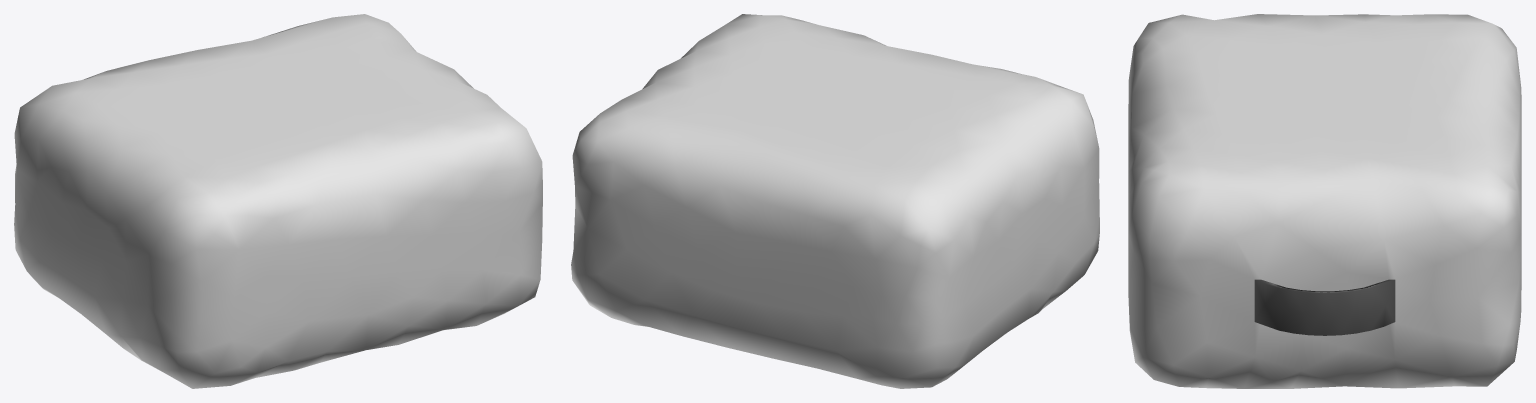
File: side_handle_bag.obj
3 renders of one model, left to right at view 1: azimuth 30°, elevation 25°; view 2: azimuth 150°, elevation 25°; view 3: azimuth 270°, elevation 25°, orthographic. The views are drawn at different scales.
Parts seen in each view (by area): view 1: side_handle; view 2: side_handle; view 3: side_handle.
Part boxes in pixels (left/top/right/bottom): side_handle: left=14, top=14, right=542, bottom=388; side_handle: left=571, top=14, right=1099, bottom=388; side_handle: left=1128, top=14, right=1521, bottom=388.
Bounding box in the file's own units: 0.535 × 0.25 × 0.42.
Materials: 1 (1 with a texture image).
